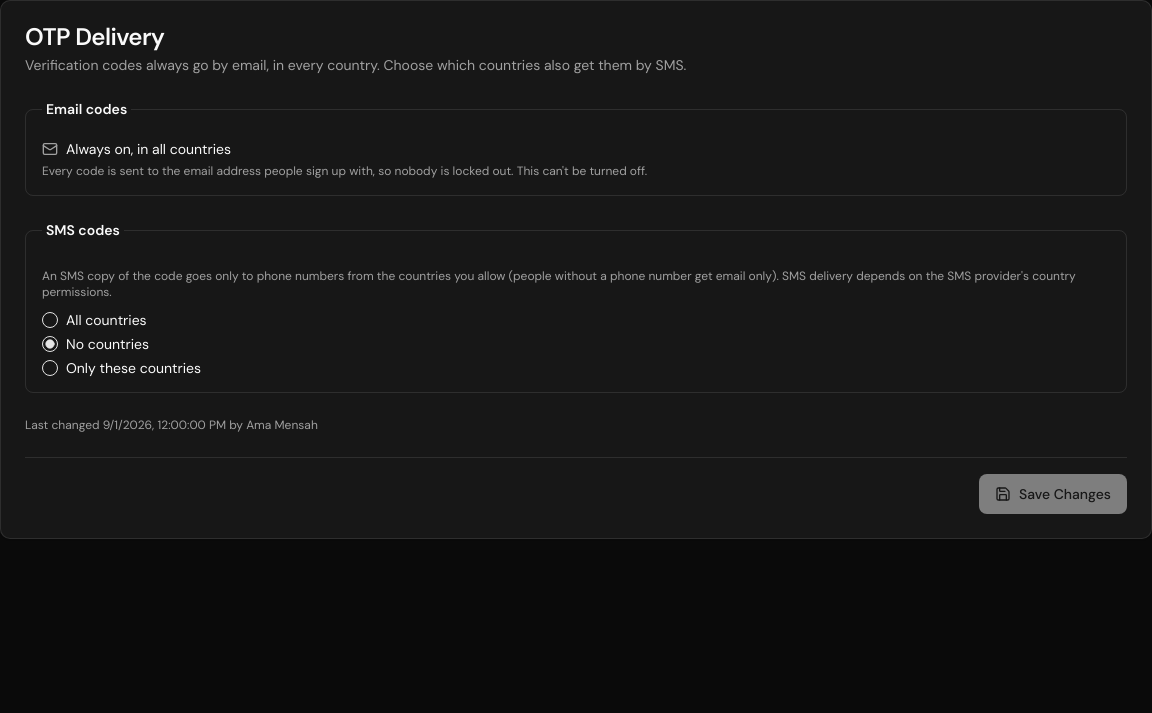
Test case: OtpDeliverySettingsCard › surfaces a server refusal instead of a false success (errorPolicy 'all' trap)
Expected: the text "Last changed 9/1/2026, 12:00:00 PM by Ama Mensah" is shown, top-left (25, 417), bottom-right (318, 433)
Click the radio button named "only these countries" next to "Only these countries" at [50, 368], box top-left (42, 360), bottom-right (58, 376)
(page scrolled)
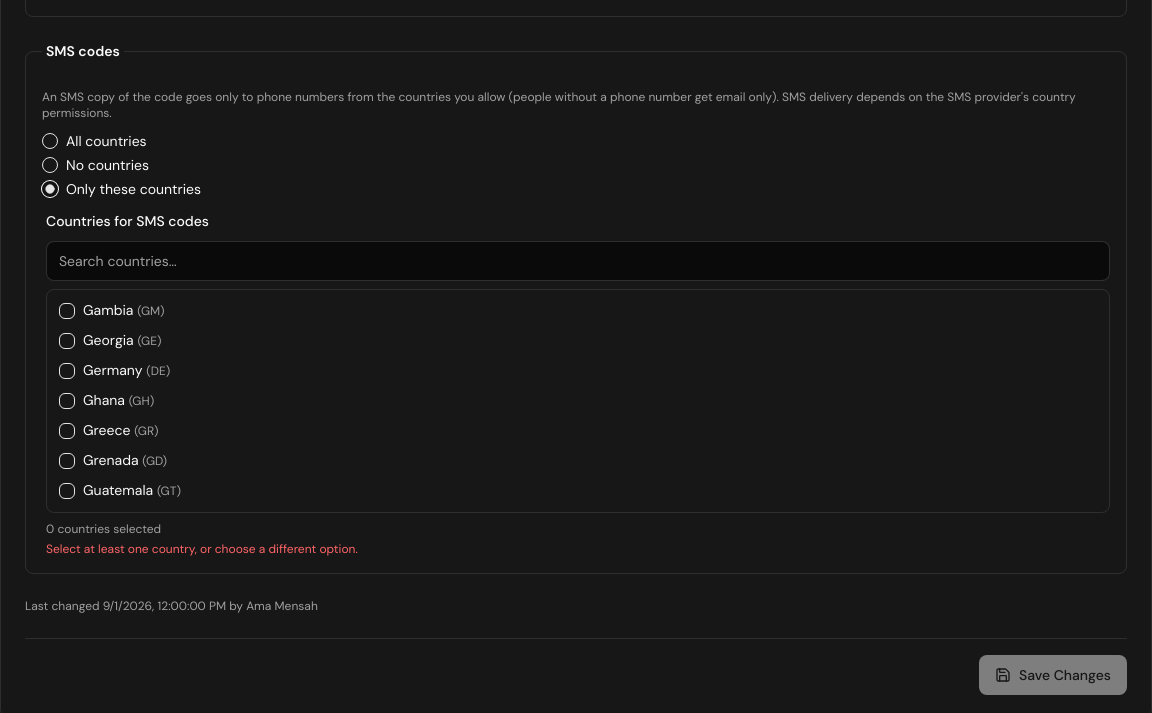
Click the checkbox named "ghana" next to "Ghana" at [67, 401], box top-left (59, 393), bottom-right (75, 409)
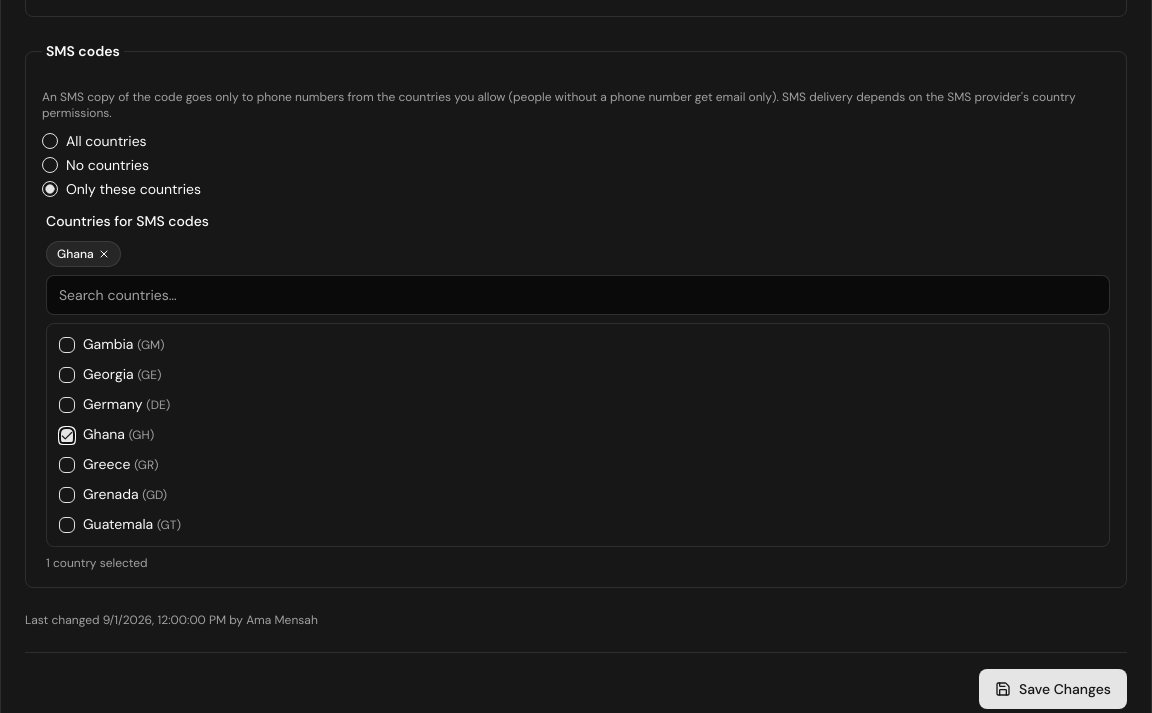
Click the button "Save Changes" at [1053, 689], box top-left (979, 669), bottom-right (1127, 709)
(page scrolled)
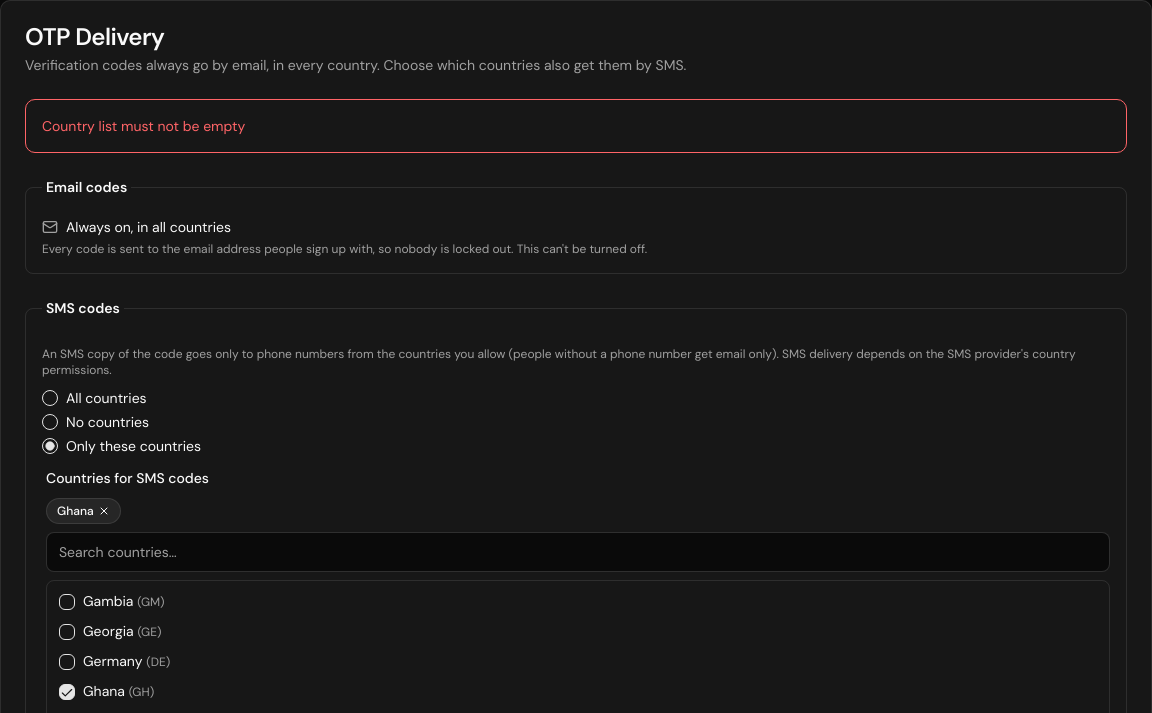
Now the text "Country list must not be empty" is shown, box top-left (42, 117), bottom-right (245, 135)
